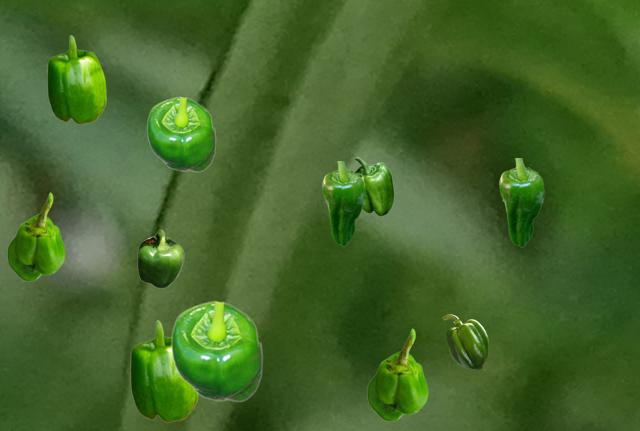bell_pepper: (170, 300, 262, 401), (130, 320, 197, 421), (367, 328, 427, 420), (146, 96, 215, 171), (47, 35, 105, 123), (7, 192, 64, 280), (499, 158, 543, 246), (322, 161, 364, 245), (137, 229, 183, 287), (442, 314, 487, 368), (353, 157, 393, 215)
